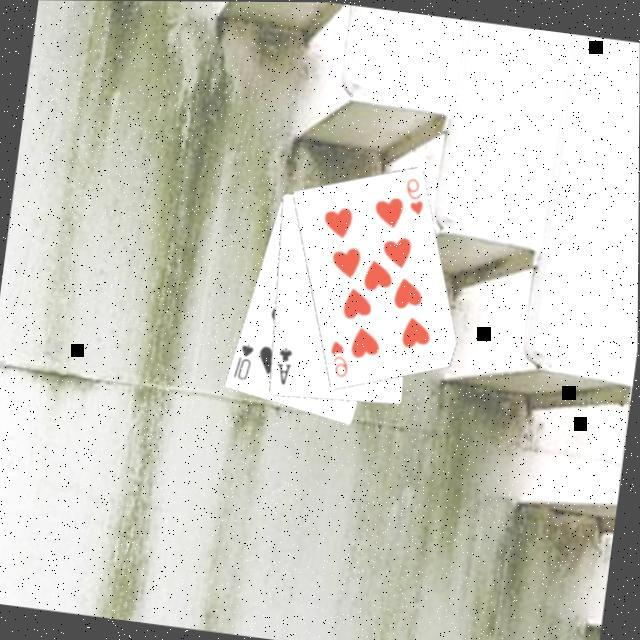10S: (230, 336, 258, 382)
9H: (400, 172, 431, 217), (325, 334, 355, 379)
AC: (272, 340, 297, 386)
